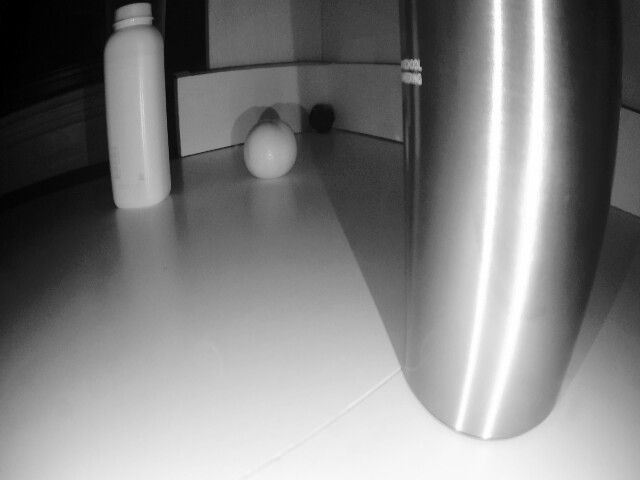black: (313, 100, 351, 146)
